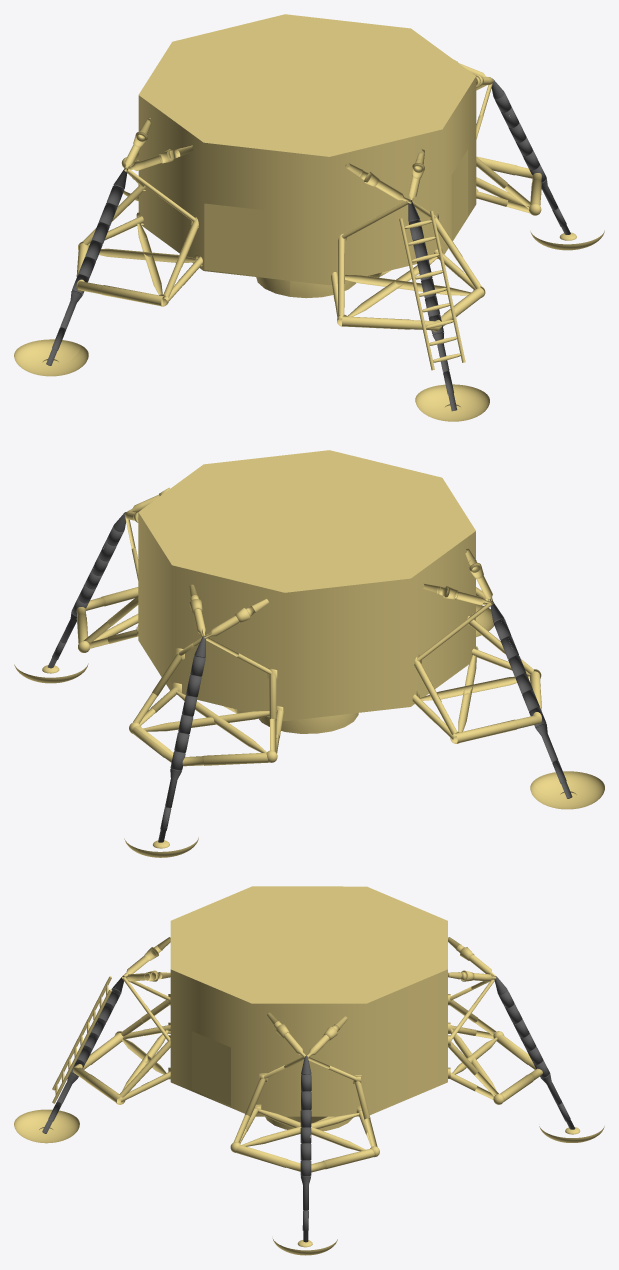
The model's file is lm-descent.glb.
The picture shows the model from 3 angles, top to bottom: view 1: azimuth 30°, elevation 25°; view 2: azimuth 150°, elevation 25°; view 3: azimuth 270°, elevation 25°; orthographic projection. The views are drawn at different scales.
Parts seen in each view (by area): view 1: pCylinder1, group31 15, group31 19, pPlane1, polySurfa1, group31 g6, group31 10, pCylinder3, group31 g8, group31 18, group31 g7, group13 pC (+7 smaller); view 2: pCylinder1, group31 15, group31 19, group31 16, group31 g8, group31 g7, group31 g6, group31 14, pCylinder3, group31 18, group31 17, group13 pC (+4 smaller); view 3: pCylinder1, group31 15, group31 16, pPlane2, group31 19, group31 g7, group31 g6, group31 g8, pCylinder3, group31 14, group31 18, group31 17 (+6 smaller).
Part boxes in pixels (<box>): pCylinder1: <box>138,14,476,285</box>; group31 15: <box>46,78,570,410</box>; group31 19: <box>14,191,604,421</box>; pPlane1: <box>204,203,265,276</box>; polySurfa1: <box>399,210,465,370</box>; group31 g6: <box>77,173,541,330</box>; group31 10: <box>133,153,532,315</box>; pCylinder3: <box>137,160,522,316</box>; group31 g8: <box>99,248,470,295</box>; group31 18: <box>125,74,493,203</box>; group31 g7: <box>76,156,532,331</box>; group13 pC: <box>256,277,356,298</box>; pCylinder1: <box>138,450,475,720</box>; group31 15: <box>48,512,570,842</box>; group31 19: <box>14,604,604,857</box>; group31 16: <box>48,512,572,842</box>; group31 g8: <box>94,614,476,732</box>; group31 g7: <box>76,607,541,762</box>; group31 g6: <box>85,587,541,766</box>; group31 14: <box>83,596,457,734</box>; pCylinder3: <box>138,625,529,752</box>; group31 18: <box>128,487,493,638</box>; group31 17: <box>124,511,492,637</box>; group13 pC: <box>259,713,358,733</box>; pCylinder1: <box>170,886,447,1116</box>; group31 15: <box>42,976,571,1242</box>; group31 16: <box>42,976,575,1241</box>; pPlane2: <box>191,1031,230,1105</box>; group31 19: <box>14,1109,604,1255</box>; group31 g7: <box>73,1067,542,1172</box>; group31 g6: <box>73,1033,535,1171</box>; group31 g8: <box>118,1028,496,1151</box>; pCylinder3: <box>122,1037,497,1146</box>; group31 14: <box>119,1039,498,1146</box>; group31 18: <box>122,937,496,1057</box>; group31 17: <box>122,970,496,1057</box>.
Size of the model in its own units: 6.43 by 2.32 by 6.43.
